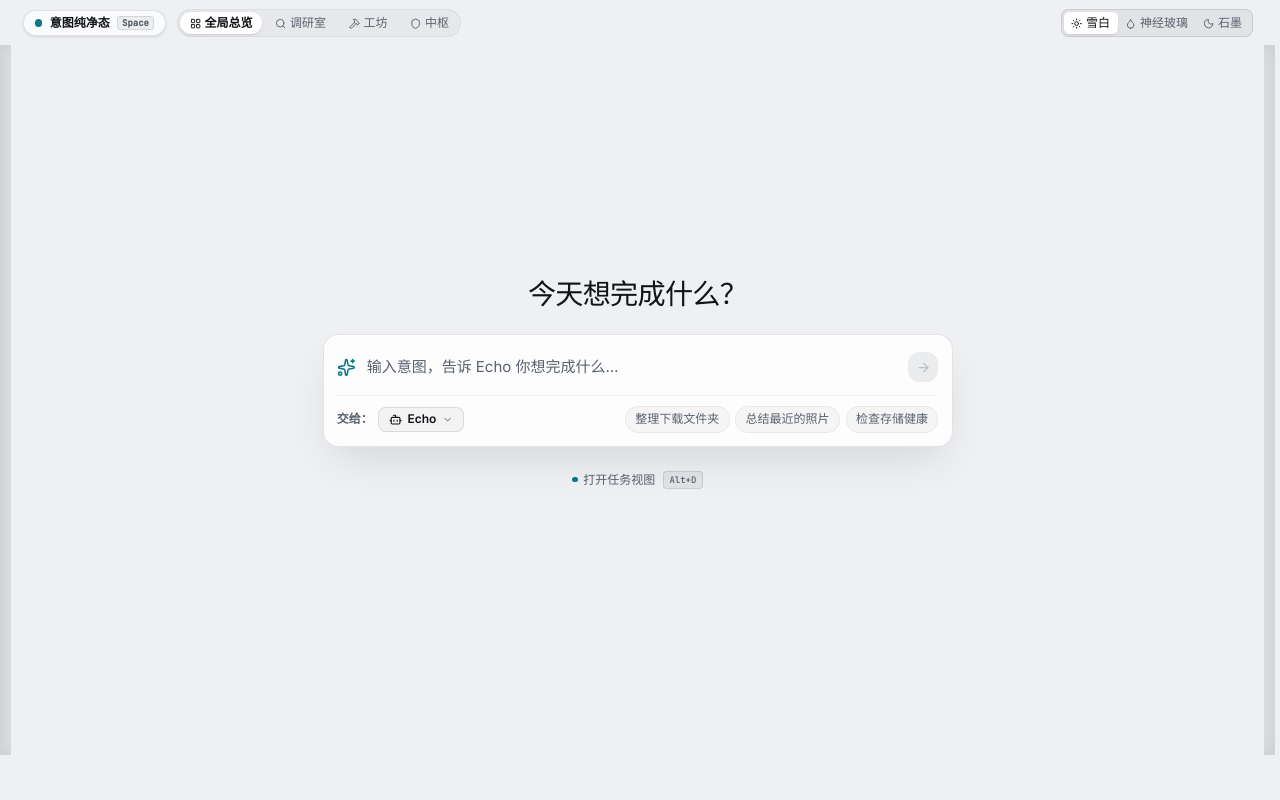
Test: IntentDesktopSurface › hands the intent to the workbench with the chosen real agent, without inventing a card
The image size is (1280, 800).
Click the button with test id "agent-selector-trigger".
click(421, 419)  # box [378, 407, 464, 432]
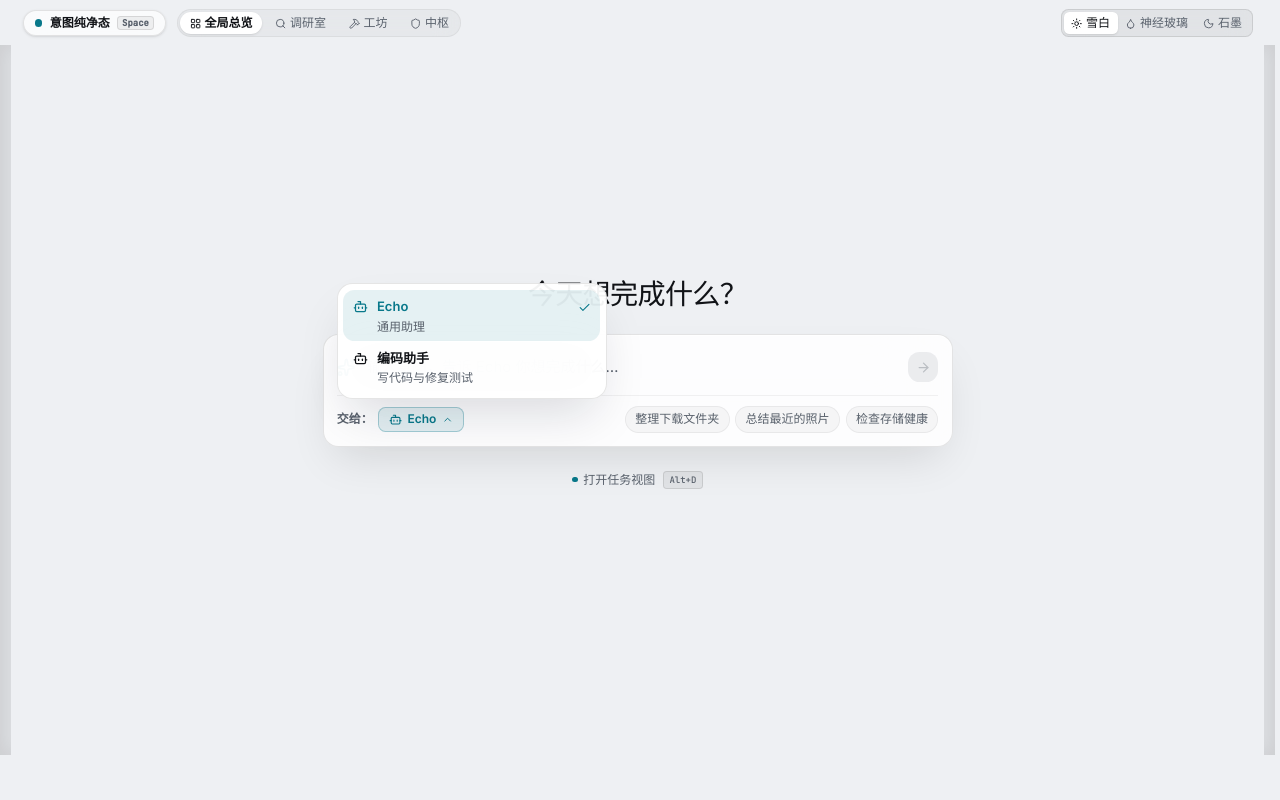
Click the menu item "编码助手 写代码与修复测试".
click(472, 367)  # box [343, 341, 600, 392]
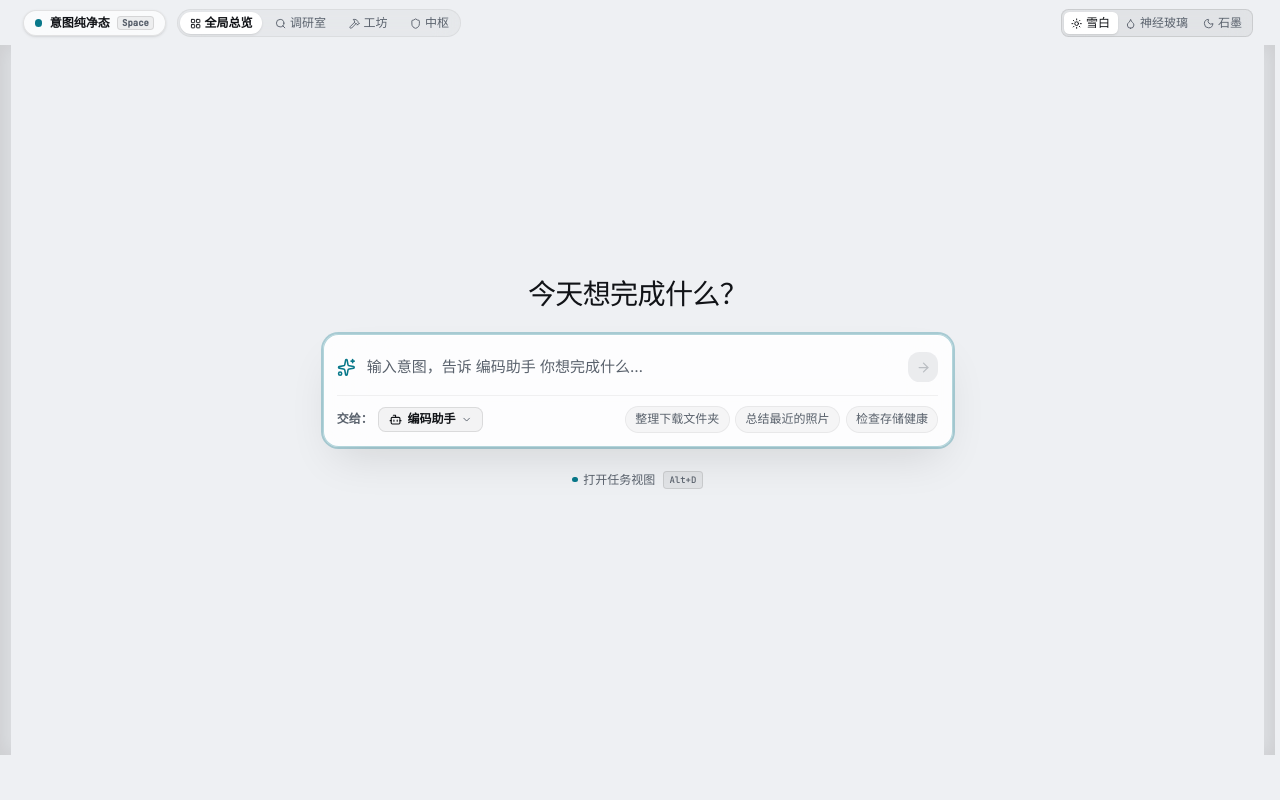
Type "修复失败的单元测试" into the field with placeholder "输入意图，告诉 编码助手 你想完成什么…".
click(632, 367); type("修复失败的单元测试")  # box [367, 348, 897, 386]
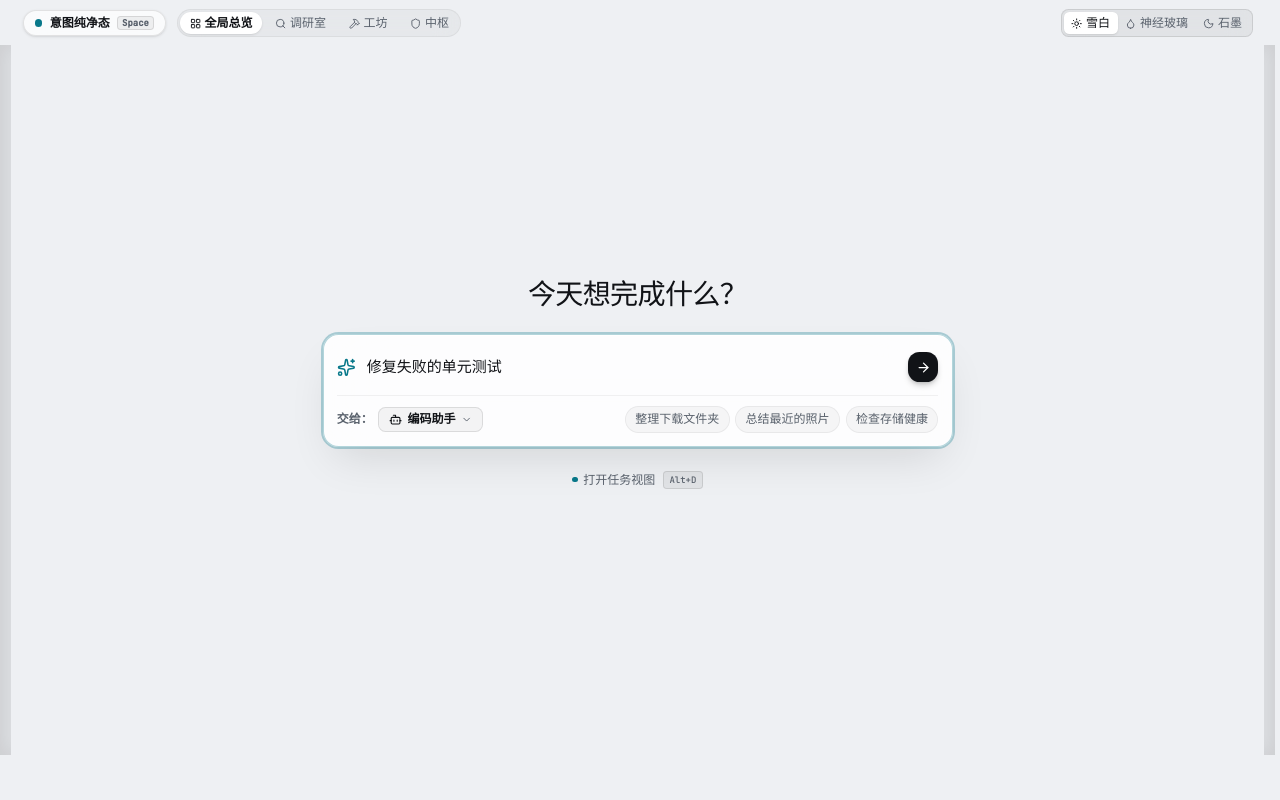
Click the button named "提交意图".
click(923, 367)  # box [908, 352, 938, 382]
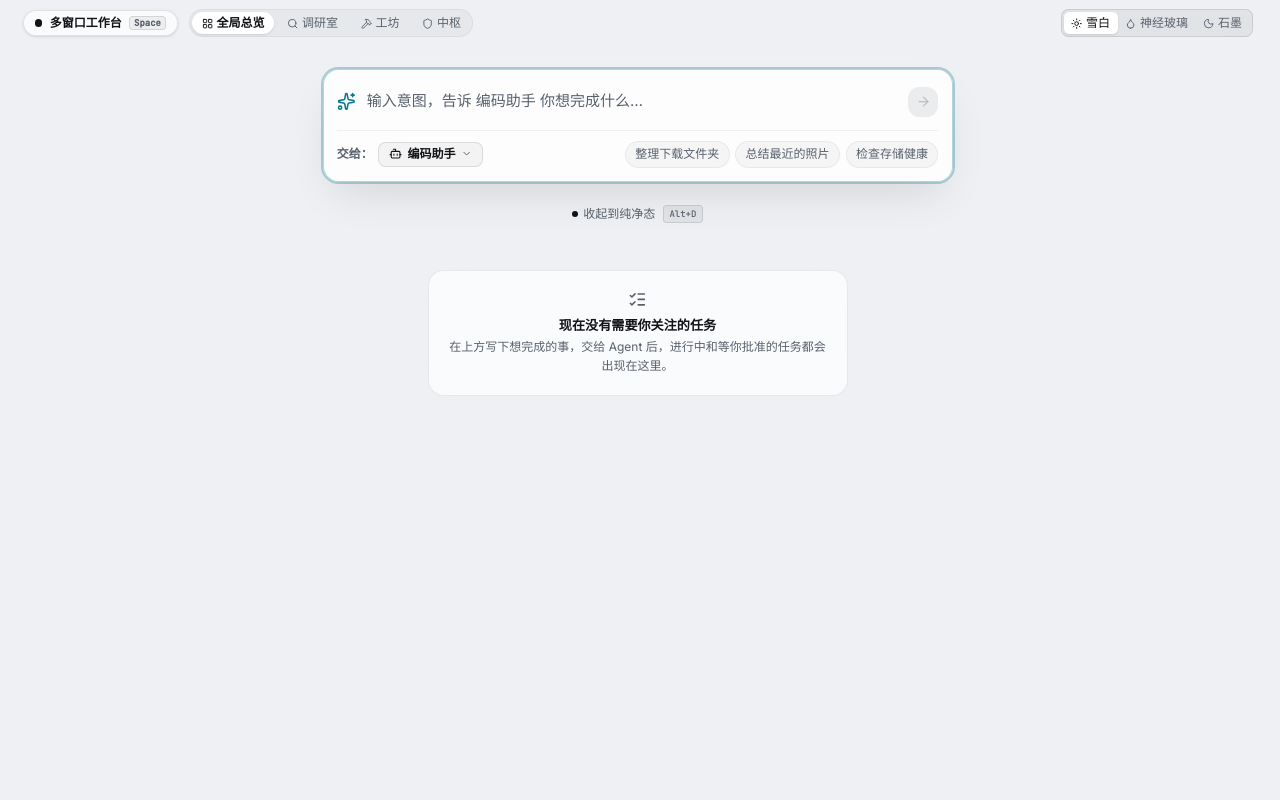
Now the text "多窗口工作台" is shown, box [50, 15, 122, 31]
